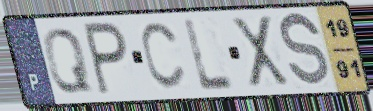C: (139, 20, 188, 93)
L: (182, 17, 238, 93)
P: (81, 20, 130, 98)
Q: (41, 26, 95, 96)
S: (278, 10, 331, 92)
X: (228, 14, 292, 91)
